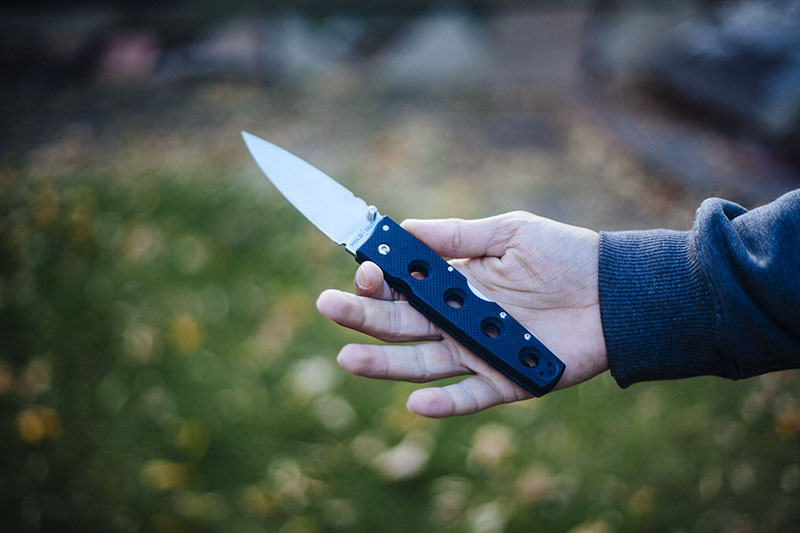knife: (232, 118, 506, 382)
